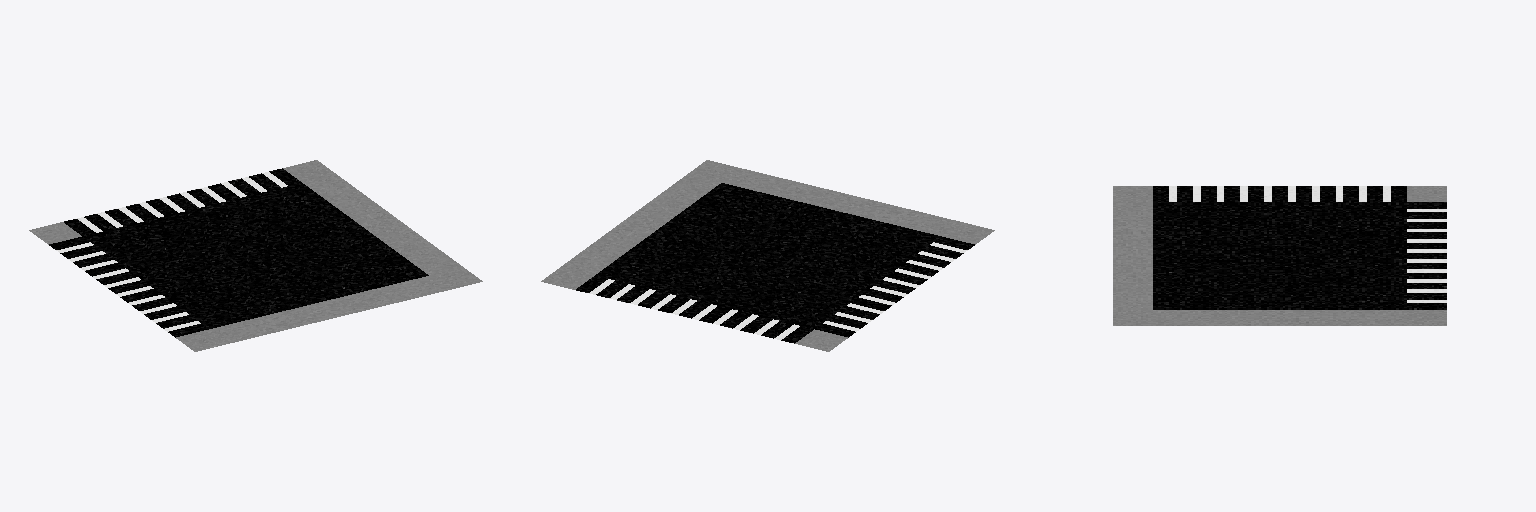
The picture shows the model from 3 angles: view 1: azimuth 30°, elevation 25°; view 2: azimuth 150°, elevation 25°; view 3: azimuth 270°, elevation 25°; orthographic projection.
Parts seen in each view (by area): view 1: Plane.011_Plane.024; view 2: Plane.011_Plane.024; view 3: Plane.011_Plane.024.
Boxes of the visible parts, box(x1,y1,x2,y2) form: Plane.011_Plane.024: box(29, 160, 482, 351); Plane.011_Plane.024: box(541, 160, 994, 351); Plane.011_Plane.024: box(1113, 186, 1446, 325).
Size of the model in its own units: 10 by 0 by 10.
1 materials, 1 textured.